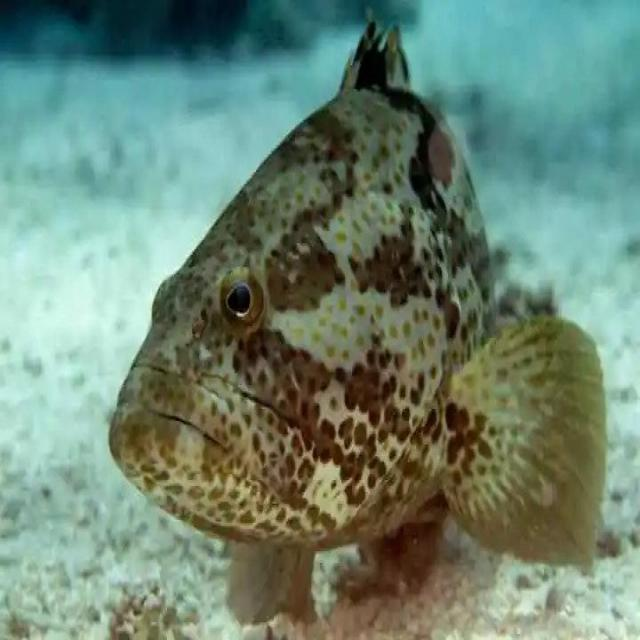grouper: (102, 41, 614, 620)
